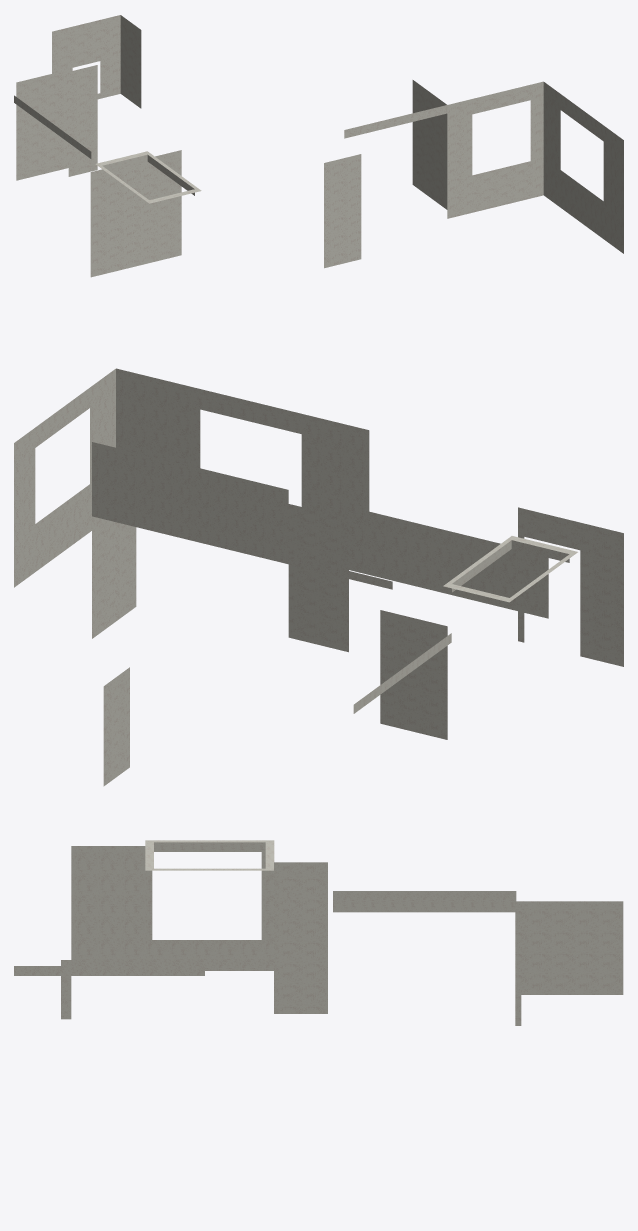
The model's file is kd_stage_135ded_4_31_exterior.glb.
3 renders of one model, top to bottom at view 1: azimuth 30°, elevation 25°; view 2: azimuth 150°, elevation 25°; view 3: azimuth 270°, elevation 25°, orthographic. The views are drawn at different scales.
Parts seen in each view (by area): view 1: kd_stage_135ded_4_31_exterior; view 2: kd_stage_135ded_4_31_exterior; view 3: kd_stage_135ded_4_31_exterior.
Boxes of the visible parts, x1,y1,x2,y2 form: kd_stage_135ded_4_31_exterior: (14,15,623,277); kd_stage_135ded_4_31_exterior: (14,368,623,786); kd_stage_135ded_4_31_exterior: (14,840,623,1025).
Size of the model in its own units: 9.57 by 3.54 by 10.05.
1 material, 1 textured.
